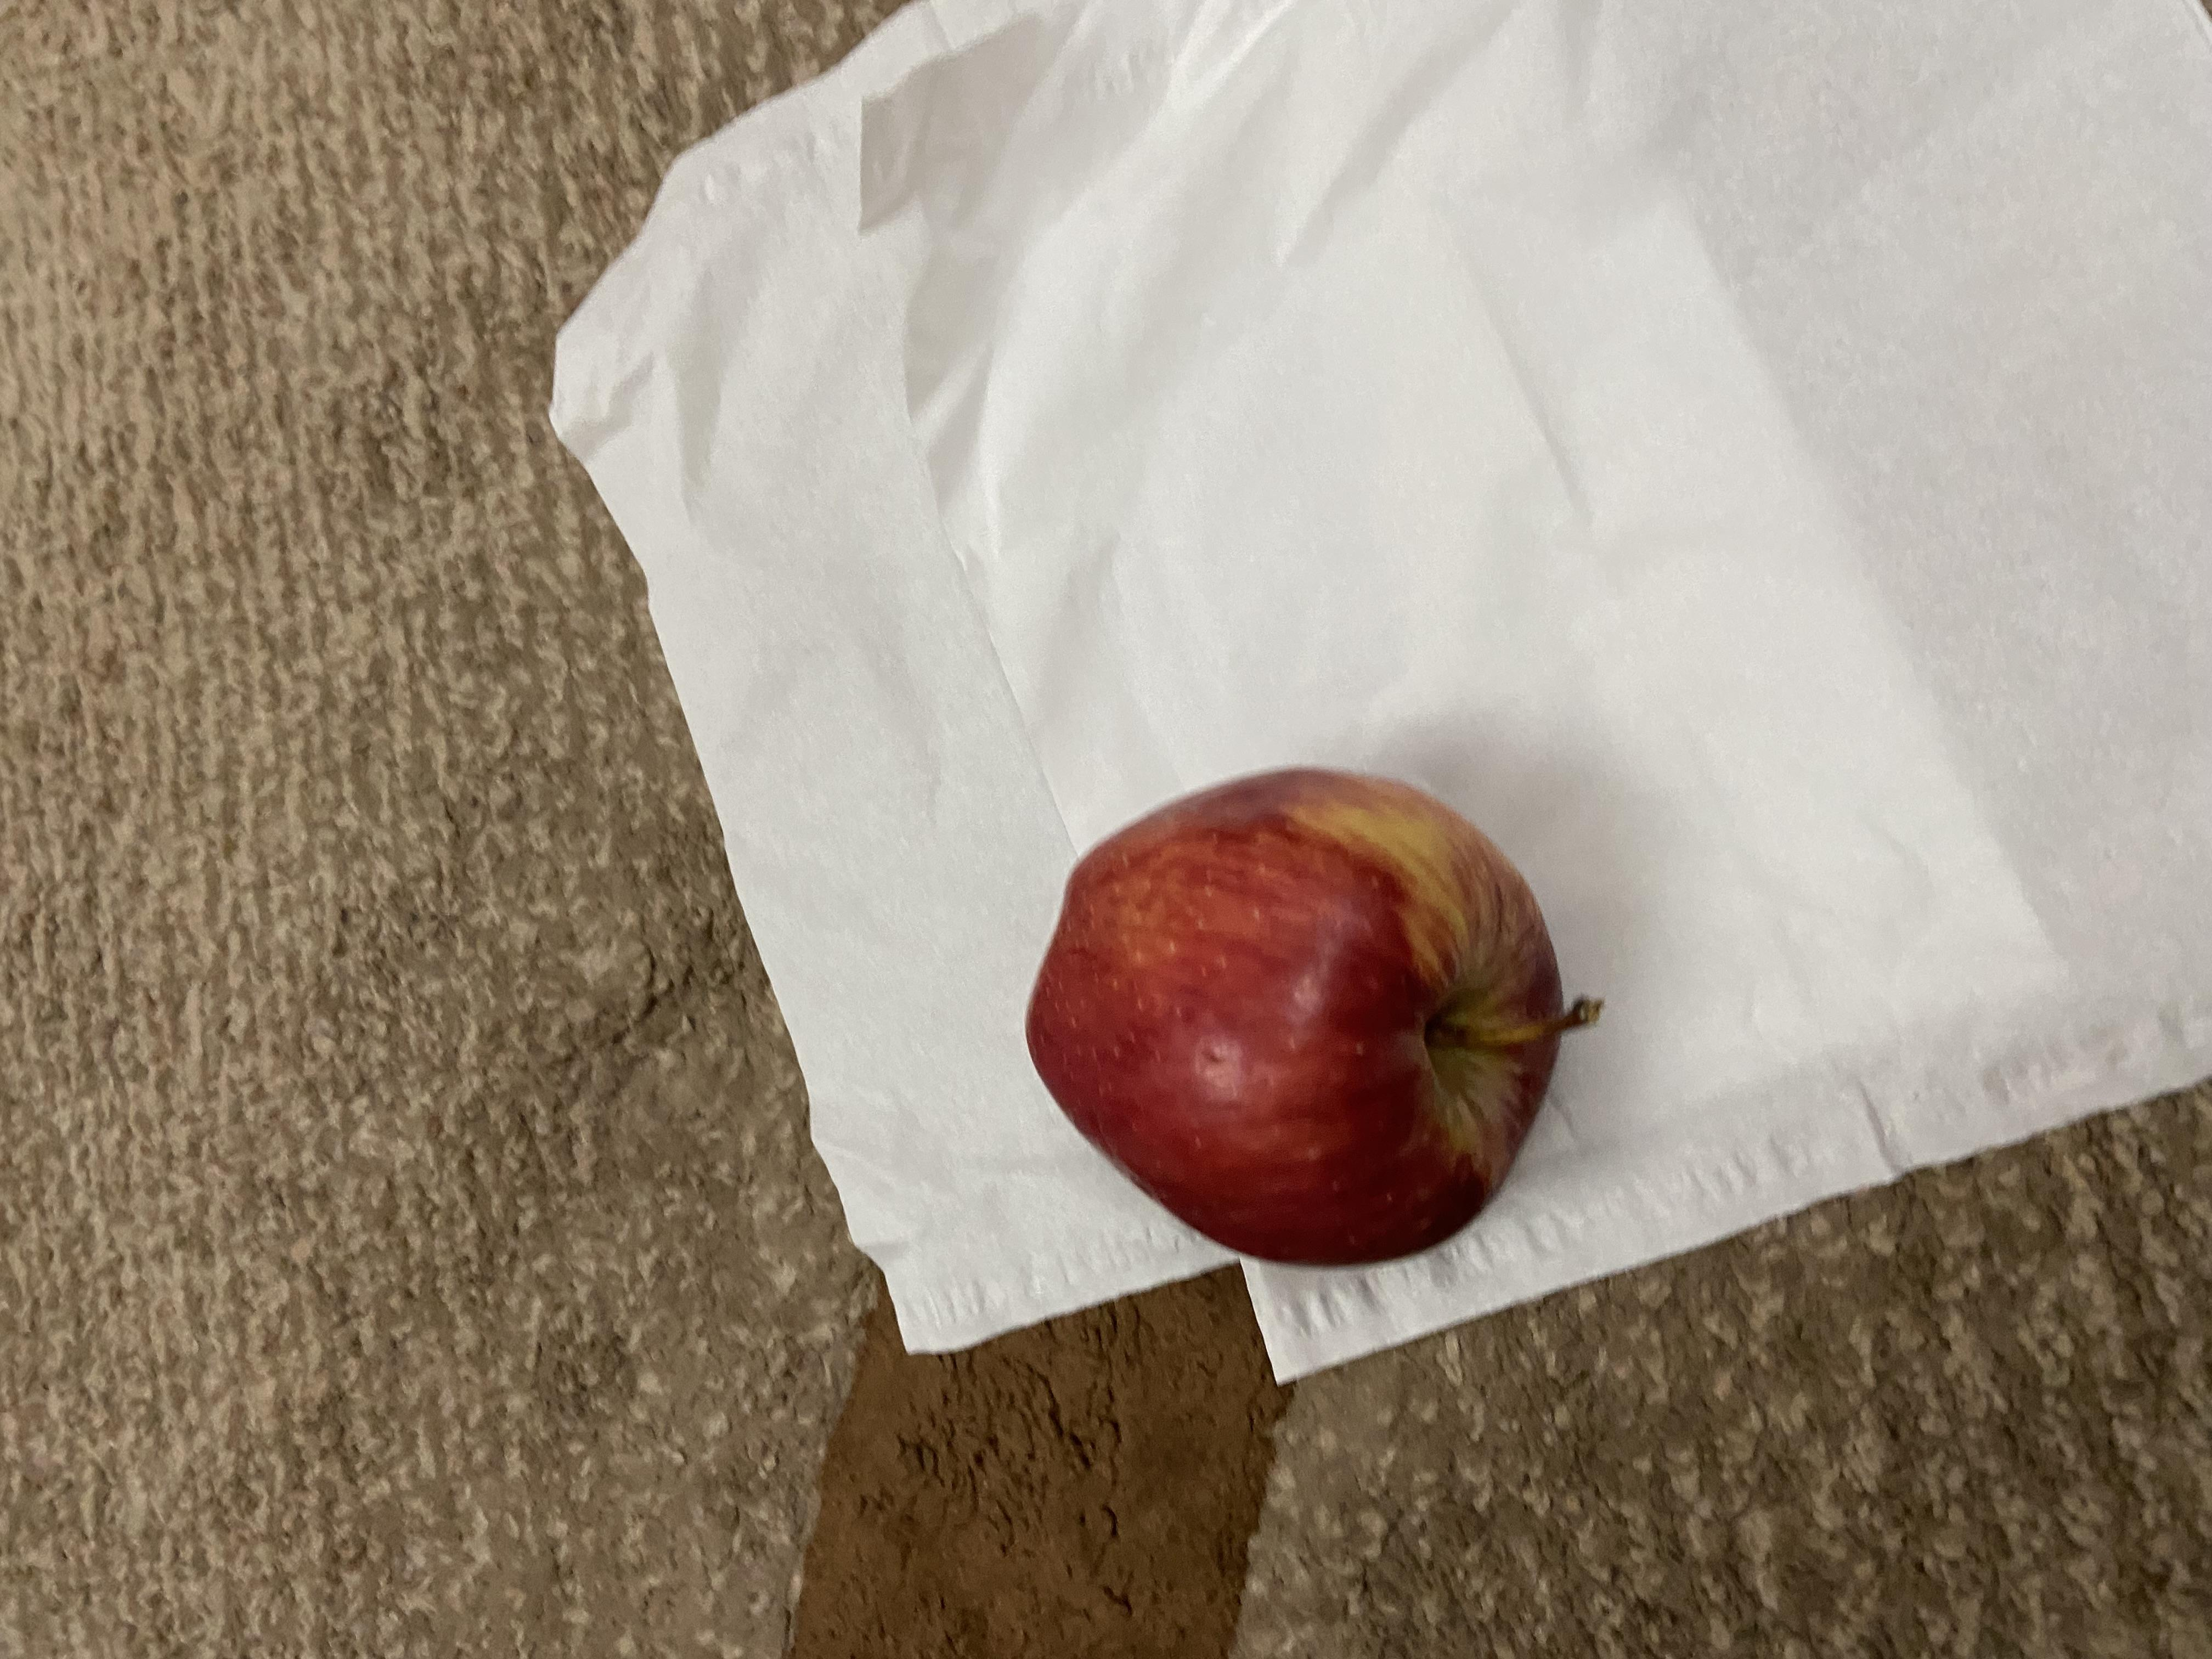Apple: (507, 762, 1202, 1215)
